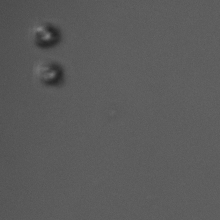Dead Cell: (36, 61, 61, 84), (34, 24, 59, 47)
